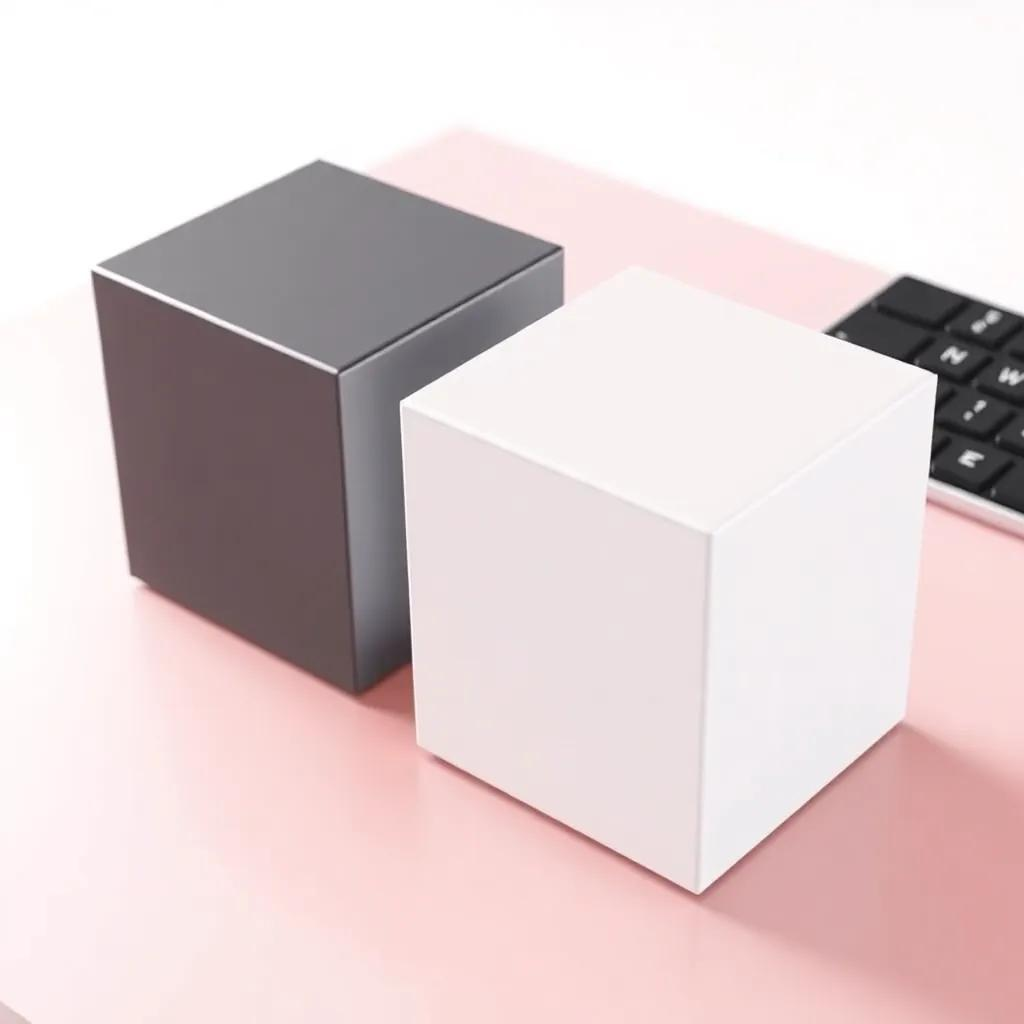cube: (398, 262, 938, 895), (89, 155, 565, 696)
